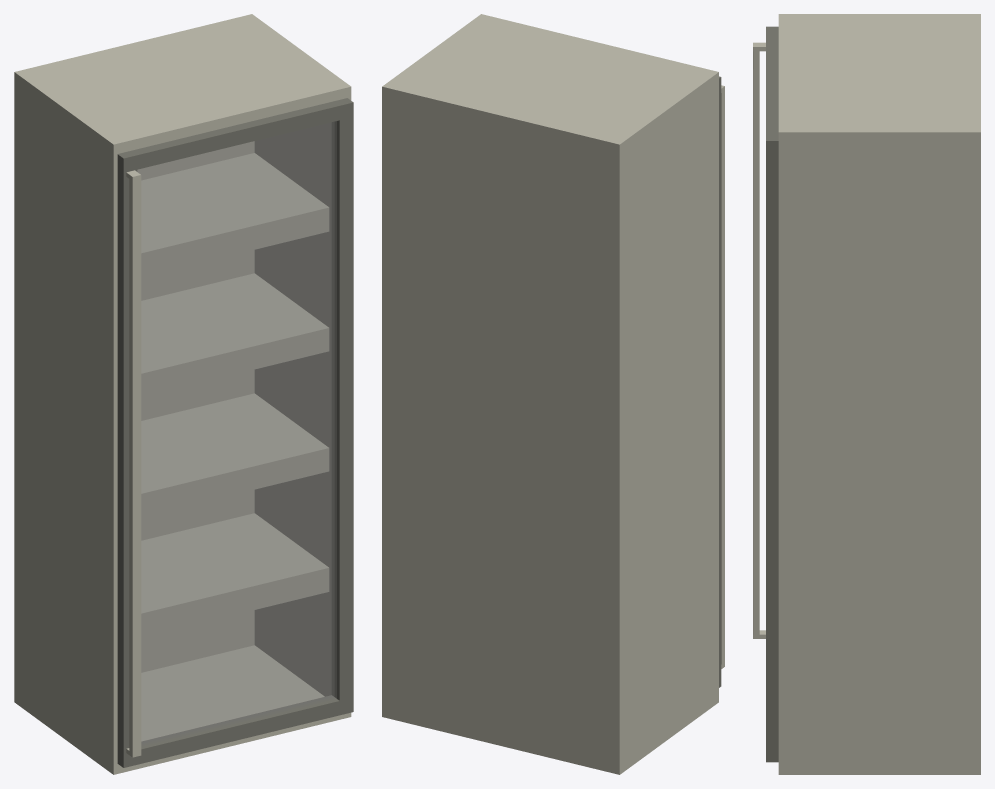
The model's file is cabinetlong.glb.
3 views of the same model, side by side, from view 1: azimuth 30°, elevation 25°; view 2: azimuth 150°, elevation 25°; view 3: azimuth 270°, elevation 25° (orthographic).
Visible parts, largest first — view 1: Cabinet1-material.002; view 2: Cabinet1-material.002; view 3: Cabinet1-material.002.
Part boxes in pixels (bbox=[...]): Cabinet1-material.002: bbox=[14, 14, 353, 774]; Cabinet1-material.002: bbox=[382, 14, 724, 774]; Cabinet1-material.002: bbox=[753, 14, 980, 774].
Bounding box in the file's own units: 1.17 × 2.95 × 0.9481.
3 materials, 3 textured.
